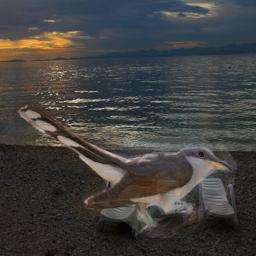Cuckoo: (15, 96, 237, 238)
